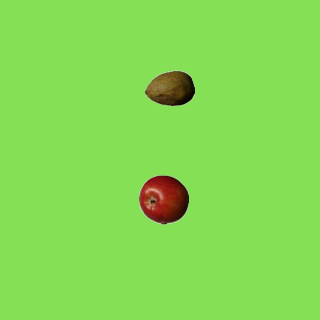Apple Braeburn: (138, 174, 188, 224)
Papaya: (144, 63, 194, 113)
